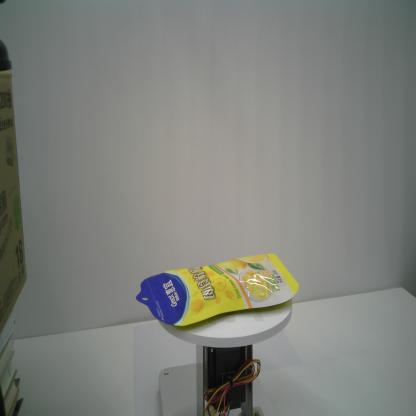Dried Fruit: (134, 250, 300, 327)
